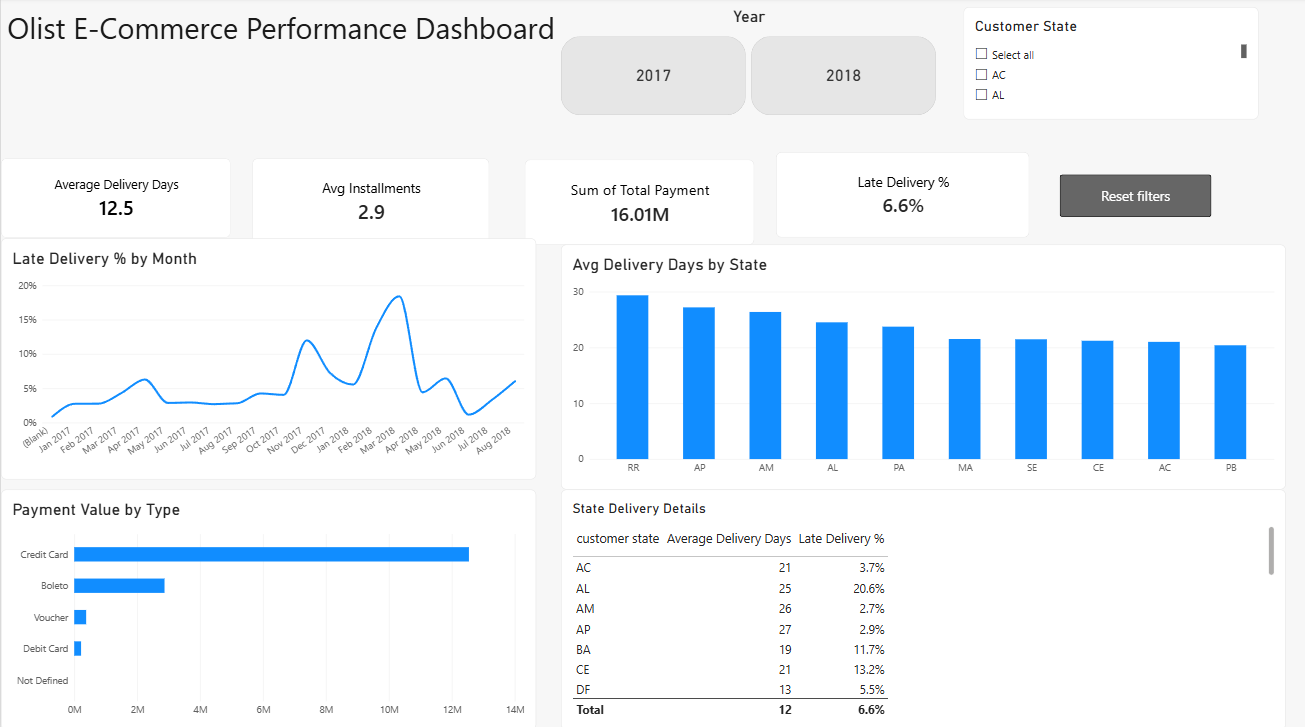

This screenshot's page, from the dashboard's own definition file:
{"tool":"powerbi","page":{"name":"Delivery & Payments","canvas":[1920,1080],"ordinal":1},"visuals":[{"type":"advancedSlicerVisual","fields":{"Values":["Calendar.Year"]},"box":[824.3,14.6,554,160.1],"z":0},{"type":"listSlicer","title":"Customer State","fields":{"Values":["Customers.customer_state"]},"box":[1417,14.6,434.4,165.6],"z":1000},{"type":"cardVisual","fields":{"Data":["Delivery Measures.Avg_Delivery Days"]},"box":[0,237.4,338.7,117.8],"z":2000},{"type":"cardVisual","fields":{"Data":["Delivery Measures.Late Delivery %"]},"box":[1141.1,228.2,373.6,127],"z":3000},{"type":"cardVisual","fields":{"Data":["Sum(Payments.payment_value)"]},"box":[771.2,239.3,338.7,127],"z":4000},{"type":"cardVisual","fields":{"Data":["Payment Measures.Avg Installments"]},"box":[369.9,237.4,349.7,127],"z":5000},{"type":"clusteredColumnChart","title":"Avg Delivery Days by State","fields":{"Category":["Customers.customer_state"],"Y":["Delivery Measures.Avg_Delivery_ Days"]},"box":[824.5,364.4,1067.5,360.7],"z":6000},{"type":"lineChart","title":"Late Delivery % by Month","fields":{"Category":["Calendar.Month Year"],"Y":["Delivery Measures.Late Delivery %"]},"box":[0,355.2,787.7,355.2],"z":7000},{"type":"clusteredBarChart","title":"Payment Value by Type","fields":{"Category":["Payments.payment_type"],"Y":["Sum(Payments.payment_value)"]},"box":[0,725.2,787.7,355.2],"z":8000},{"type":"actionButton","box":[1558.9,261.4,223.3,62.6],"z":9000},{"type":"textbox","box":[0,14.7,824.5,187.7],"z":10000},{"type":"tableEx","title":"State Delivery Details","fields":{"Values":["Customers.customer_state","Delivery Measures.Average Delivery Days","Delivery Measures.Late Delivery %"]},"box":[824.5,725.2,1067.5,355.2],"z":11000}]}

Visuals, with their boxes in screenshot pixels (x1, y1, x2, y2), scaled from the page's 1920x1080 canvas onto the 1305x727 screenshot:
advancedSlicerVisual - Calendar.Year: <box>560,10,937,118</box>
"Customer State" listSlicer: <box>963,10,1258,121</box>
cardVisual - Delivery Measures.Avg_Delivery Days: <box>0,160,230,239</box>
cardVisual - Delivery Measures.Late Delivery %: <box>776,154,1030,239</box>
cardVisual - Sum(Payments.payment_value): <box>524,161,754,247</box>
cardVisual - Payment Measures.Avg Installments: <box>251,160,489,245</box>
"Avg Delivery Days by State" clusteredColumnChart: <box>560,245,1286,488</box>
"Late Delivery % by Month" lineChart: <box>0,239,535,478</box>
"Payment Value by Type" clusteredBarChart: <box>0,488,535,726</box>
actionButton: <box>1060,176,1211,218</box>
textbox: <box>0,10,560,136</box>
"State Delivery Details" tableEx: <box>560,488,1286,726</box>
